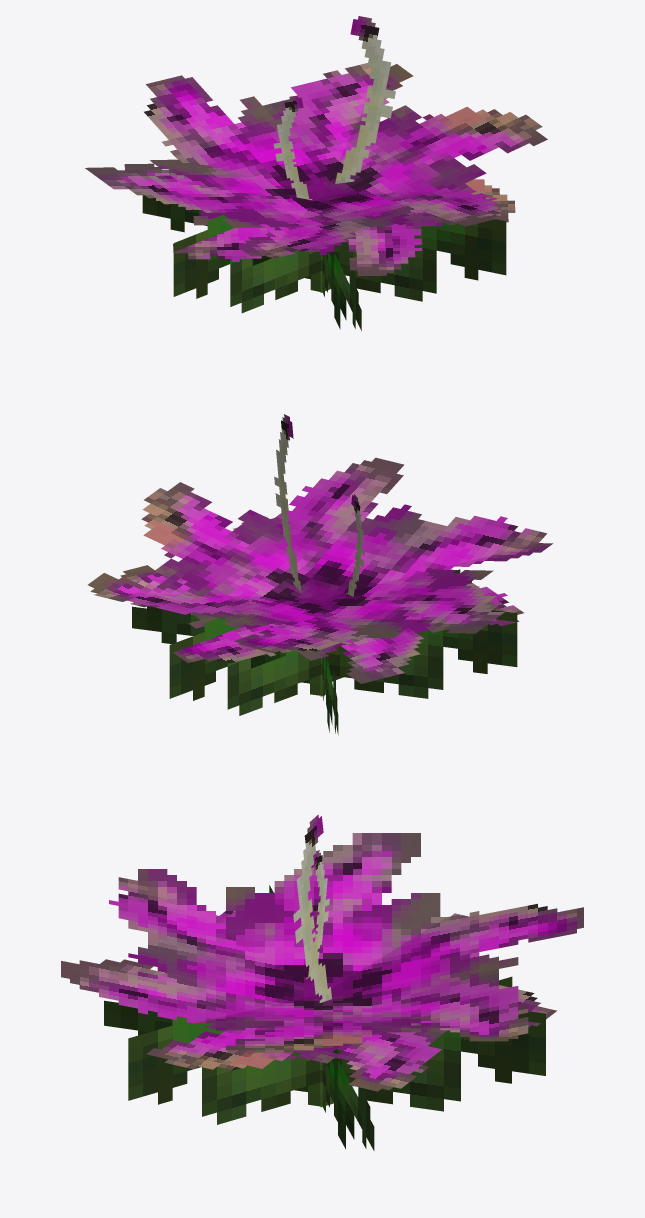
Rendered from flower_9.fbx.
3 views of the same model, one above another, from view 1: azimuth 30°, elevation 25°; view 2: azimuth 150°, elevation 25°; view 3: azimuth 270°, elevation 25° (orthographic). The views are drawn at different scales.
Visible parts, largest first — view 1: flower9; view 2: flower9; view 3: flower9.
Boxes of the visible parts, x1,y1,x2,y2 form: flower9: [85, 16, 547, 330]; flower9: [88, 414, 553, 734]; flower9: [61, 814, 583, 1150].
Bounding box in the file's own units: 85.58 × 48.01 × 85.58.
